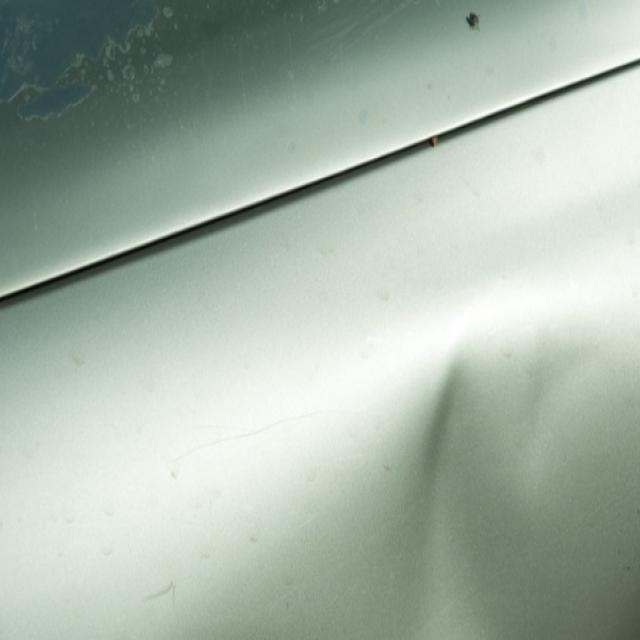dents: (418, 319, 496, 549), (523, 325, 602, 474)
